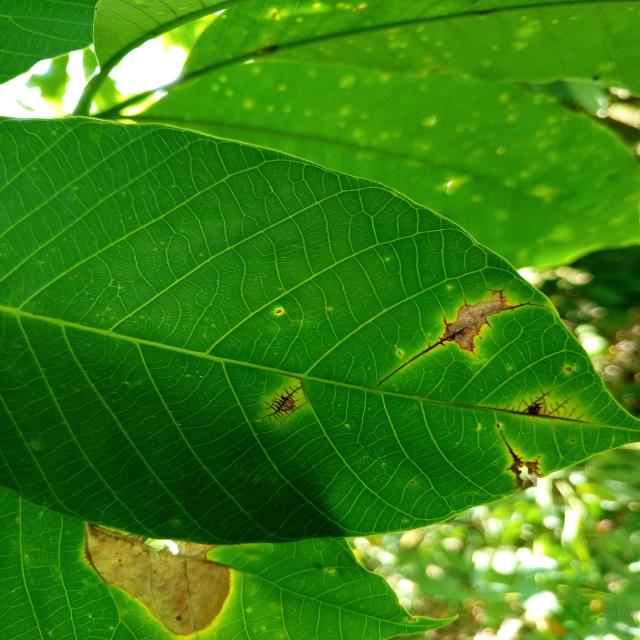Colletotrichum: (566, 367, 572, 371), (276, 309, 282, 313), (176, 616, 181, 620)
Corynespora: (377, 286, 549, 388), (476, 388, 600, 424), (255, 382, 308, 426), (82, 534, 109, 586), (499, 431, 524, 468)
Leaf-Blight: (85, 523, 231, 636)
